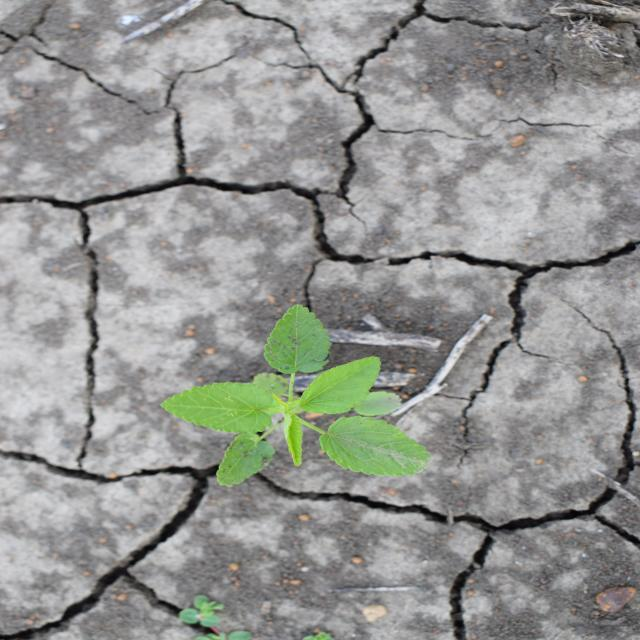PricklySida: (159, 301, 435, 489)
SpottedSpurge: (176, 594, 254, 639)
